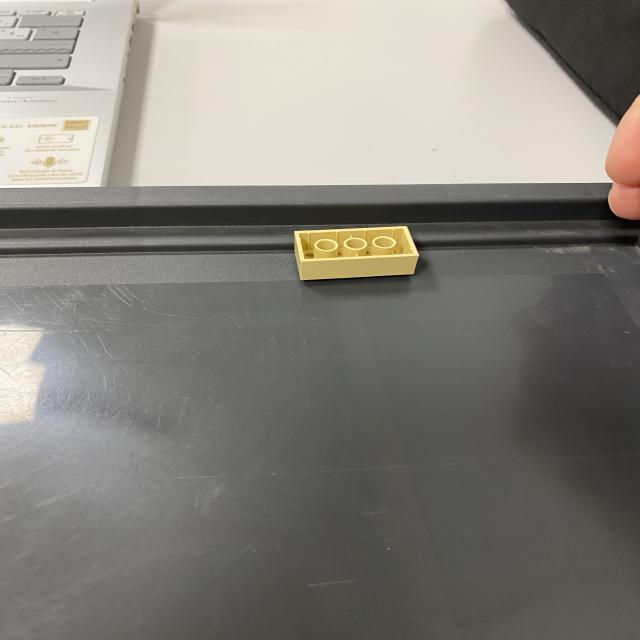C4x2x1: (301, 251, 418, 278), (293, 231, 303, 277)
